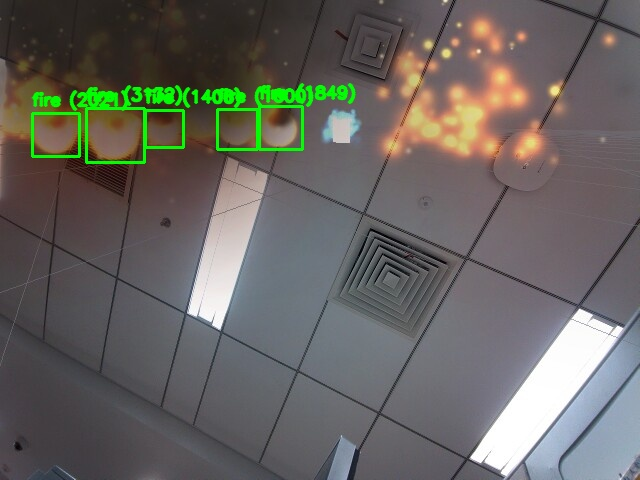fire: (86, 108, 144, 162), (32, 113, 79, 156), (259, 106, 302, 149), (217, 109, 257, 149), (145, 110, 183, 147)
